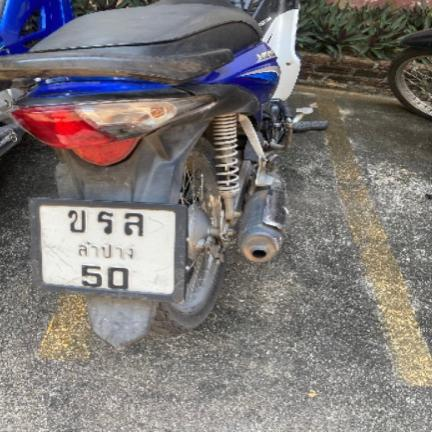0: (106, 264, 130, 291)
5: (79, 263, 105, 288)
A02: (66, 209, 87, 234)
A35: (94, 209, 116, 235)
A36: (122, 211, 146, 237)
LPG: (73, 239, 136, 260)
